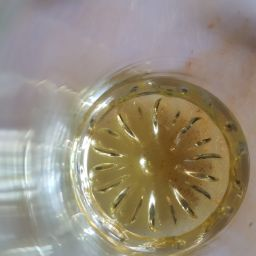Olive oil: (70, 75, 255, 246), (107, 115, 219, 216)
